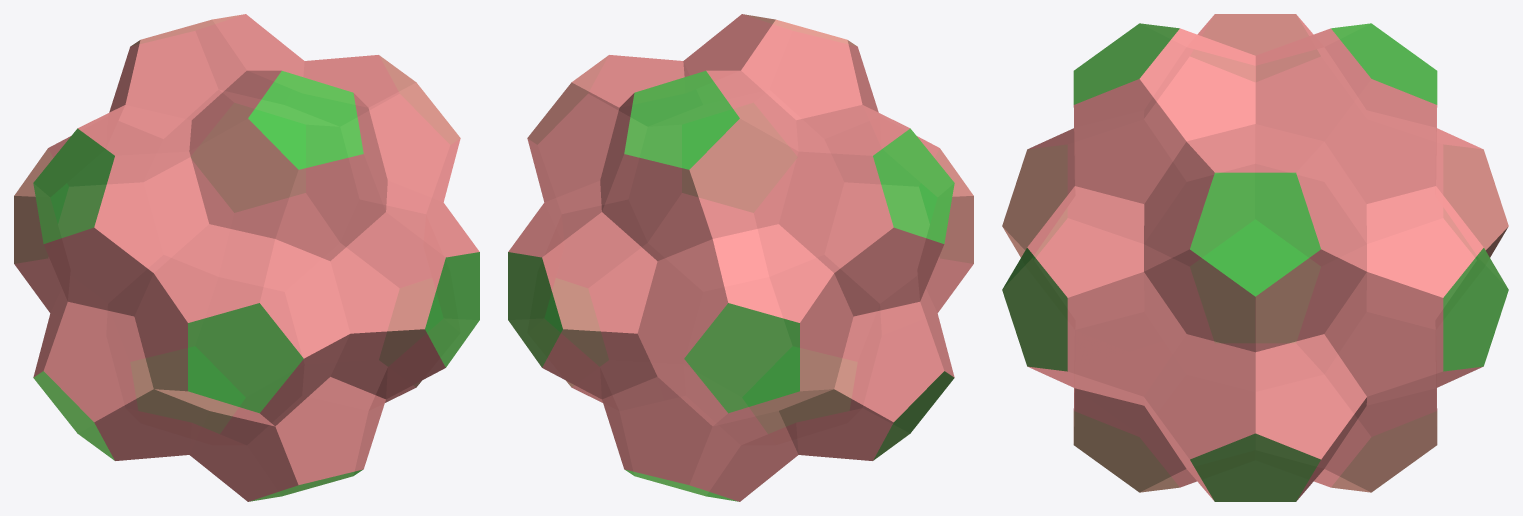
File: TruncatedDeltoidalHexecontahedron2.obj
3 renders of one model, left to right at view 1: azimuth 30°, elevation 25°; view 2: azimuth 150°, elevation 25°; view 3: azimuth 270°, elevation 25°, orthographic. The views are drawn at different scales.
Size of the model in its own units: 6.24 by 6.24 by 6.24.
